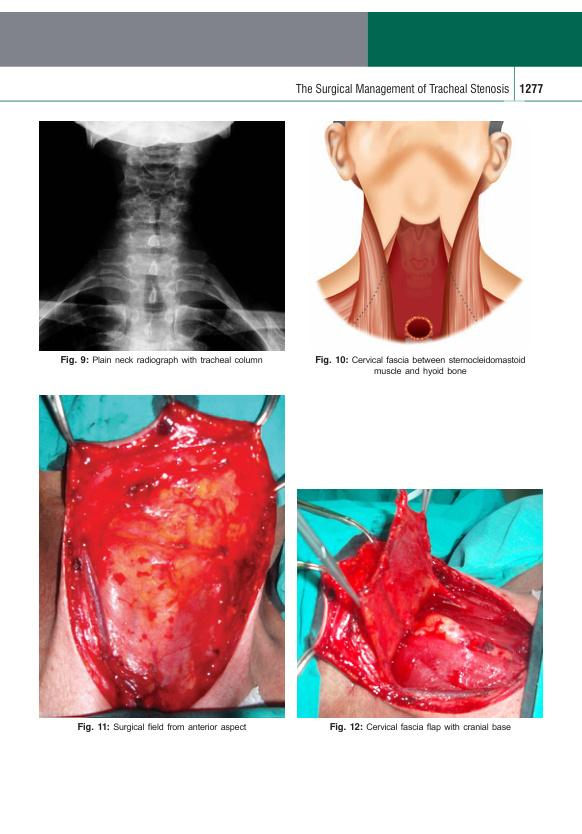caption: (314, 354, 526, 377), (59, 355, 264, 366), (329, 722, 512, 734), (77, 721, 247, 733)
header: (295, 82, 510, 97)
image: (38, 394, 286, 719), (38, 120, 286, 352), (297, 488, 544, 719), (307, 119, 531, 349)
